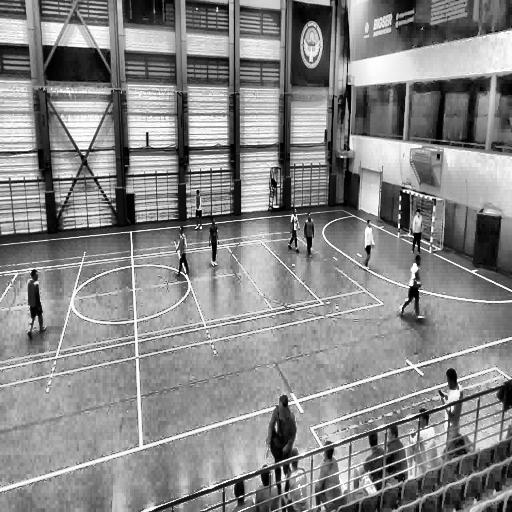player: (267, 393, 296, 498), (26, 269, 48, 340), (399, 254, 422, 320), (176, 226, 189, 278), (362, 220, 373, 271), (288, 206, 300, 251), (208, 215, 218, 266), (411, 208, 422, 254), (304, 214, 315, 258), (195, 190, 202, 229)
